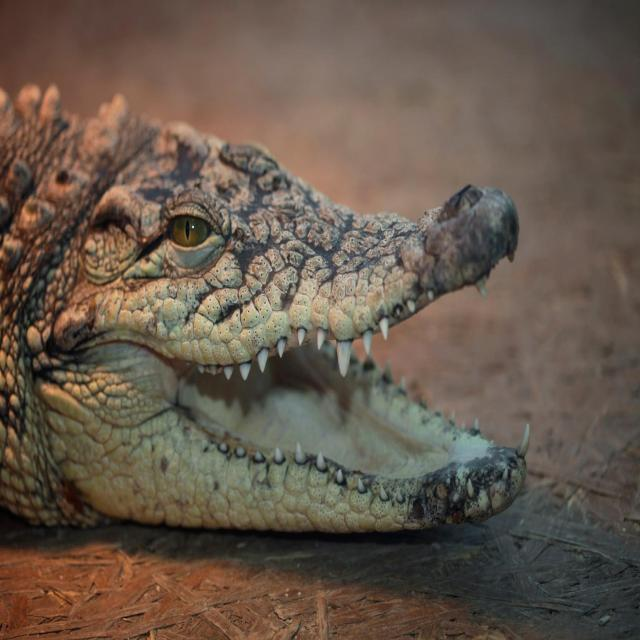crocodile: (0, 35, 558, 634)
